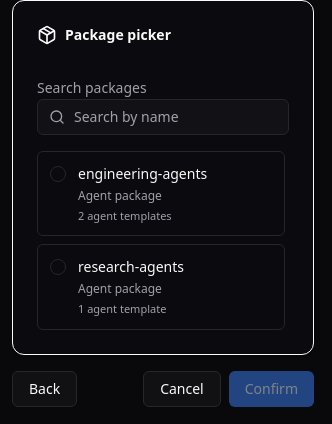
it: SourcePackagePicker › filters packages by search text
The width and height of the screenshot is (332, 424).
Type "research" into the search field with test id "package-picker-search" at x=163, y=117, box [37, 99, 289, 135]
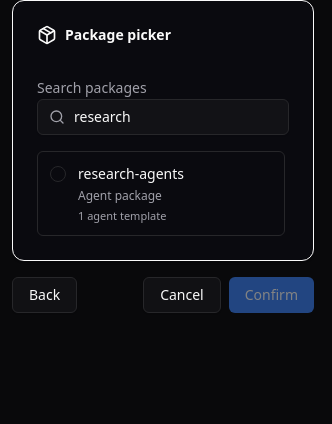
Expected: the radio button with test id "package-picker-item-research-agents" is shown, [37, 151, 285, 236]
Now the radio button with test id "package-picker-item-engineering-agents" is gone
